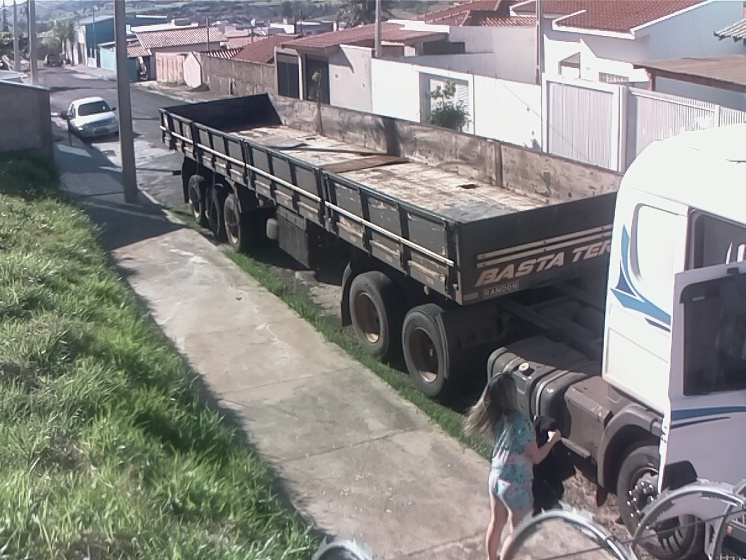person: (462, 370, 567, 560)
